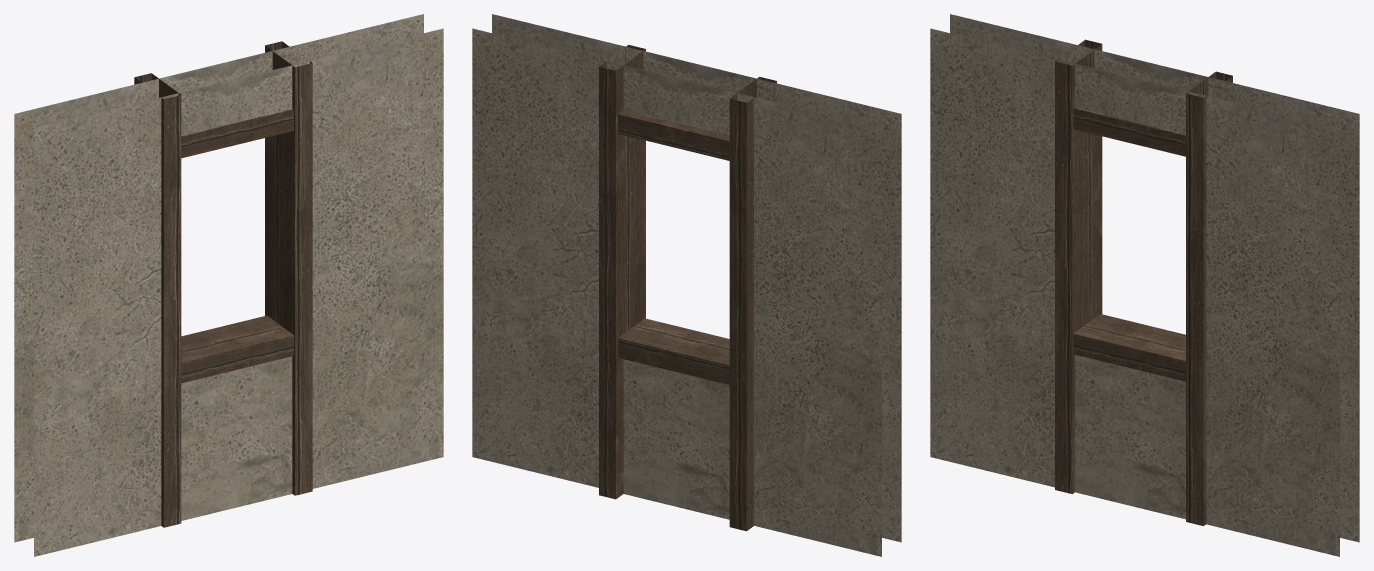
The model's file is ARC1010265.fbx.
The picture shows the model from 3 angles, left to right: view 1: azimuth 30°, elevation 25°; view 2: azimuth 150°, elevation 25°; view 3: azimuth 330°, elevation 25°; orthographic projection.
Visible parts, largest first — view 1: smARC1010265; view 2: smARC1010265; view 3: smARC1010265.
Boxes of the visible parts, x1,y1,x2,y2 form: smARC1010265: (14,14,443,556); smARC1010265: (472,14,901,556); smARC1010265: (930,14,1359,556).
Bounding box in the file's own units: 268 × 268 × 33.95.
1 material, 1 textured.
